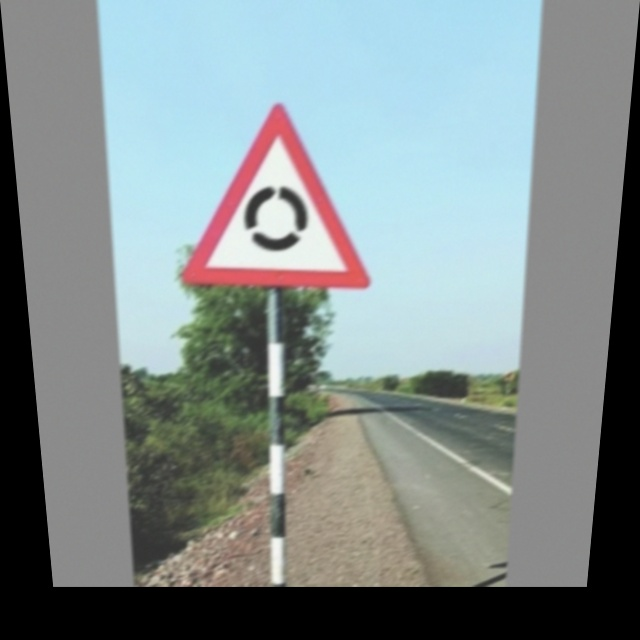Round_About: (168, 100, 385, 292)
